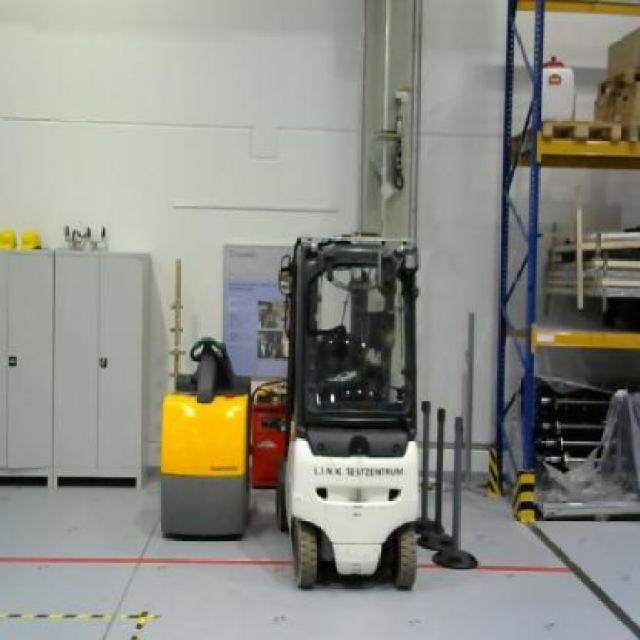box: (592, 83, 640, 126), (608, 24, 640, 80)
